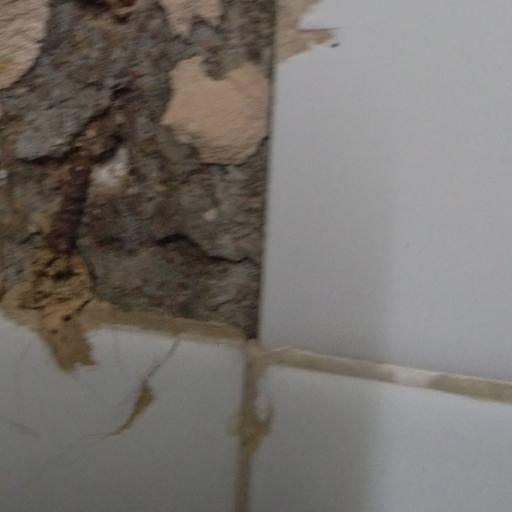spalling: (0, 0, 269, 361)
